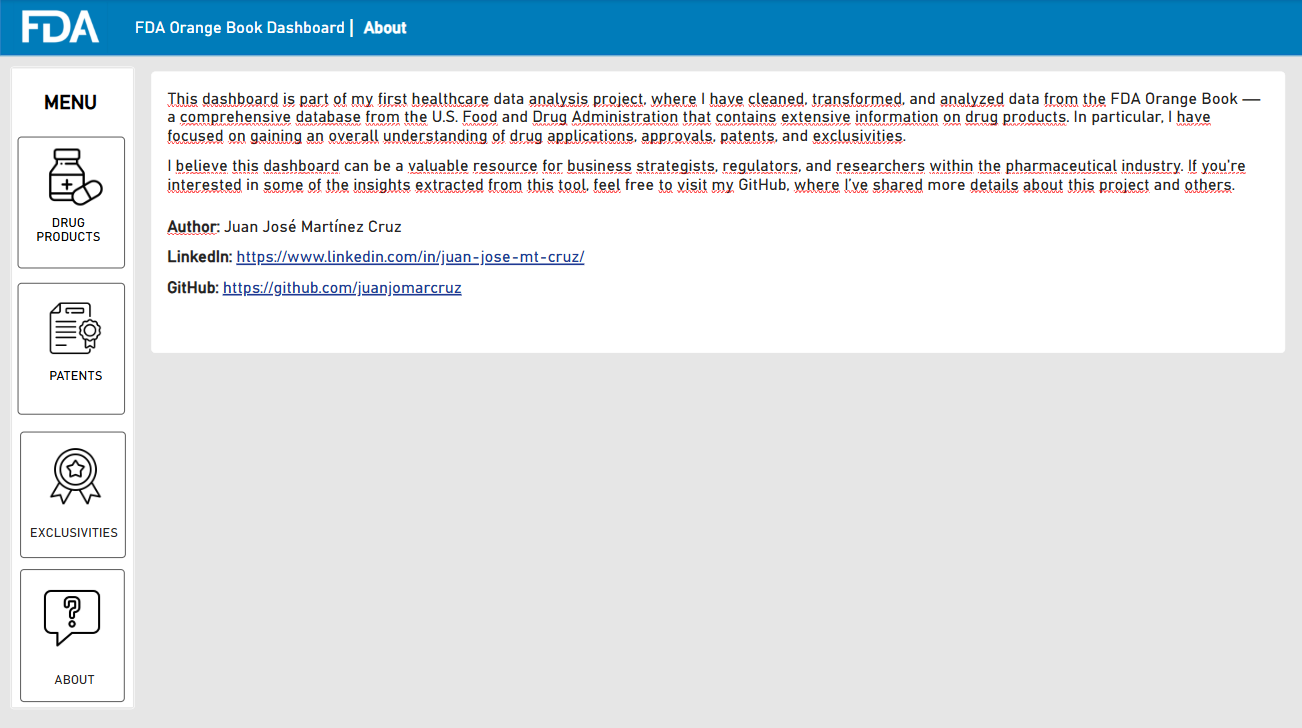

What the dashboard file says about the page in this screenshot:
{"tool":"powerbi","page":{"name":"About","canvas":[1920,1080],"ordinal":3},"visuals":[{"type":"shape","box":[222.7,106.7,1669.3,414.1],"z":0},{"type":"shape","box":[14,100,184,946],"z":1000},{"type":"image","box":[62,216,98,94],"z":2000},{"type":"textbox","box":[4,312,194,66],"z":3000},{"type":"textbox","box":[24,770,170,50],"z":4000},{"type":"textbox","box":[36.4,130,134,44],"z":5000},{"type":"actionButton","box":[1838,0,54.1,54.1],"z":6000},{"type":"shape","box":[26,202,158,194],"z":7000},{"type":"shape","box":[0,0,1920.1,84],"z":8000},{"type":"shape","box":[26,418,158,194],"z":9000},{"type":"shape","box":[30,636,156,186],"z":10000},{"type":"shape","box":[30,840,154,196],"z":11000},{"type":"textbox","box":[193.3,14.7,1198.2,53.4],"z":12000},{"type":"image","box":[0,0,178,84],"z":13000},{"type":"image","box":[68,438,86,94],"z":14000},{"type":"textbox","box":[14,540,194,50],"z":15000},{"type":"image","box":[64,656,94,94],"z":16000},{"type":"image","box":[50,858,112,108],"z":17000},{"type":"textbox","box":[26,986,168,50],"z":18000},{"type":"pageNavigator","box":[14.7,202.5,184.1,842.9],"z":19000},{"type":"textbox","box":[241.1,127,1623.3,333.1],"z":20000}]}

Visuals, with their boxes in screenshot pixels (x1, y1, x2, y2), scaled from the page's 1920x1080 canvas onto the 1302x728 screenshot:
shape: detection(151, 72, 1283, 351)
shape: detection(9, 67, 134, 705)
image: detection(42, 146, 108, 209)
textbox: detection(3, 210, 134, 255)
textbox: detection(16, 519, 132, 553)
textbox: detection(25, 88, 116, 117)
actionButton: detection(1246, 0, 1283, 36)
shape: detection(18, 136, 125, 267)
shape: detection(0, 0, 1301, 57)
shape: detection(18, 282, 125, 413)
shape: detection(20, 429, 126, 554)
shape: detection(20, 566, 125, 698)
textbox: detection(131, 10, 944, 46)
image: detection(0, 0, 121, 57)
image: detection(46, 295, 104, 359)
textbox: detection(9, 364, 141, 398)
image: detection(43, 442, 107, 506)
image: detection(34, 578, 110, 651)
textbox: detection(18, 665, 132, 698)
pageNavigator: detection(10, 136, 135, 705)
textbox: detection(163, 86, 1264, 310)
